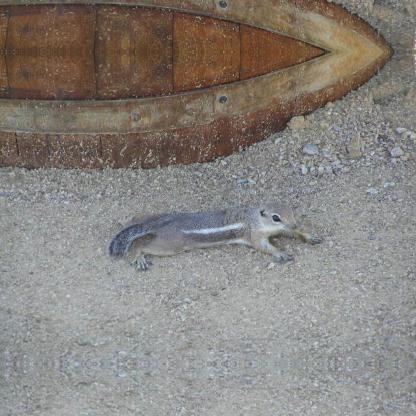Squirrel: (102, 200, 324, 268)
